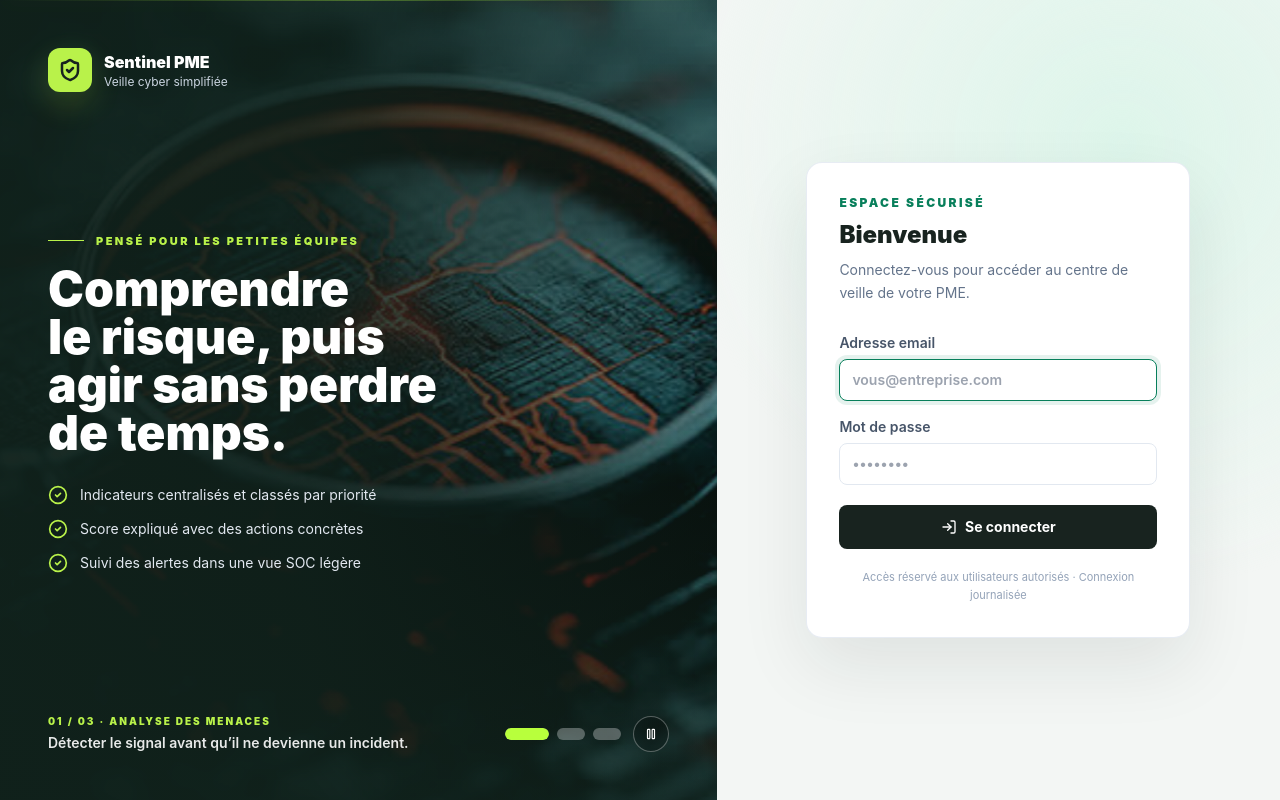
Test: Login › permet de parcourir les trois scènes de cybersécurité
The image size is (1280, 800).
Expected: the button named "mettre le diaporama en pause" is shown, [633, 716, 669, 752]
Click the button named "afficher la scène protection des identités": (571, 734) [557, 728, 585, 740]
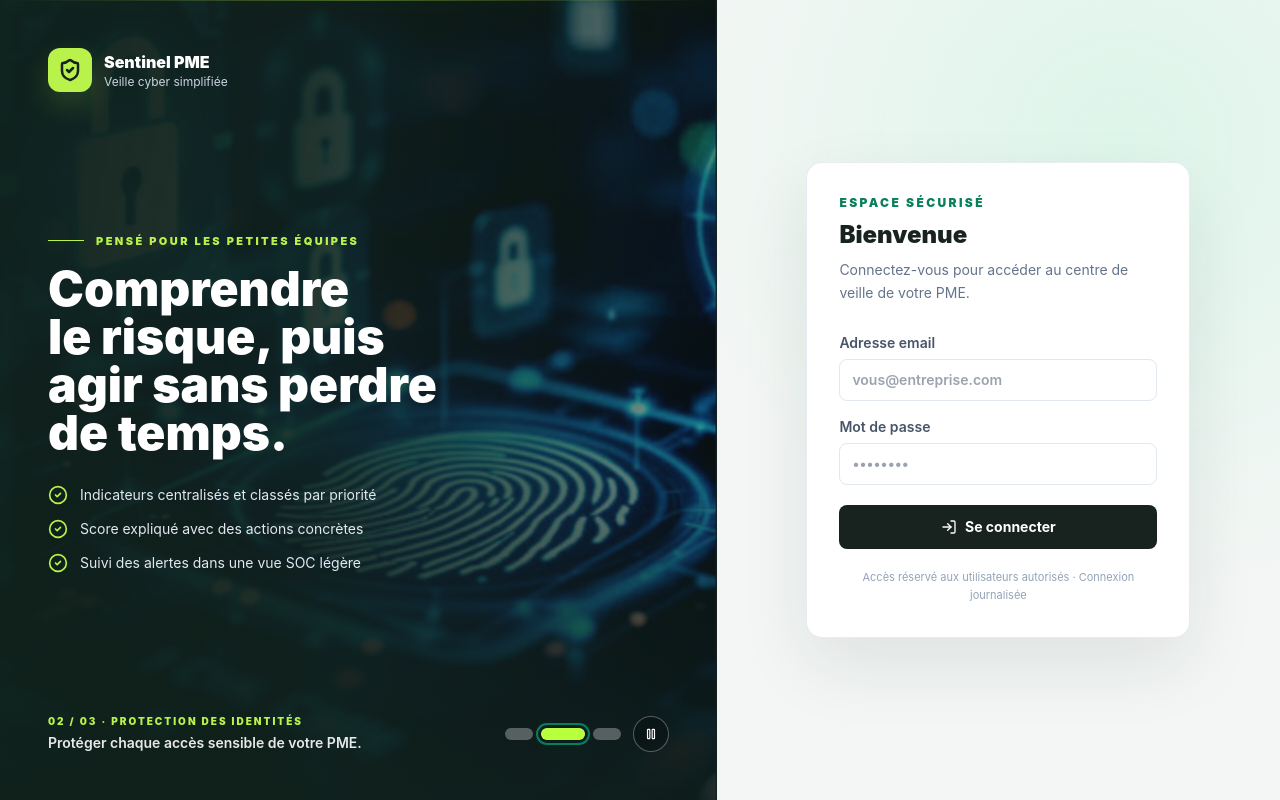
Expected: the text "Protéger chaque accès sensible de votre PME." is shown, [48, 733, 362, 752]
